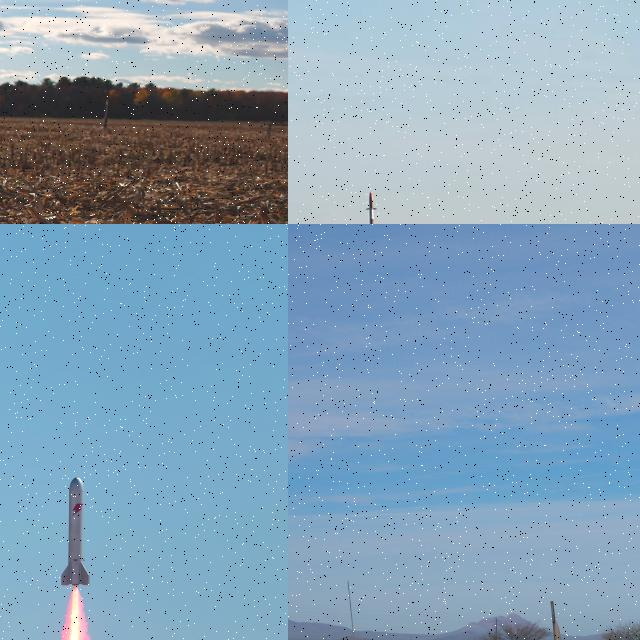Rocket: (50, 479, 102, 595), (364, 191, 380, 224), (551, 619, 571, 640), (103, 100, 109, 120)
